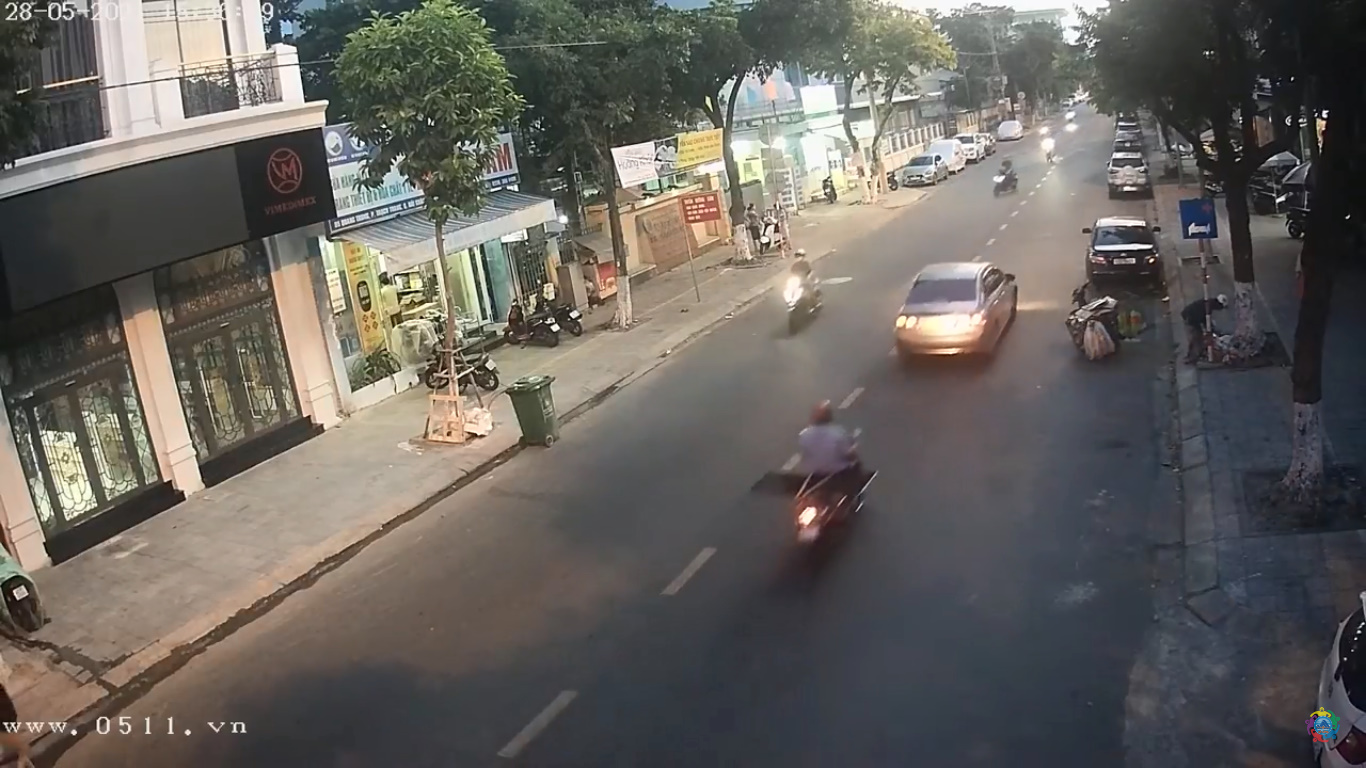car: (892, 259, 1024, 362)
